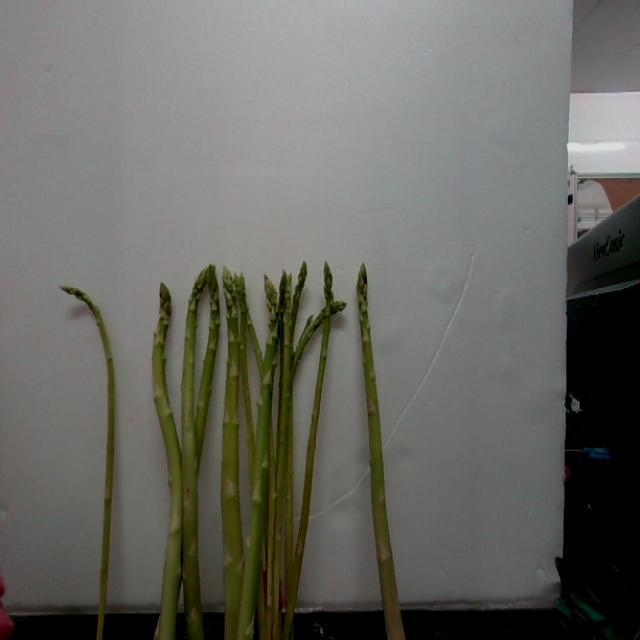aspargus: (357, 266, 407, 640), (65, 288, 118, 640), (149, 284, 184, 640)
